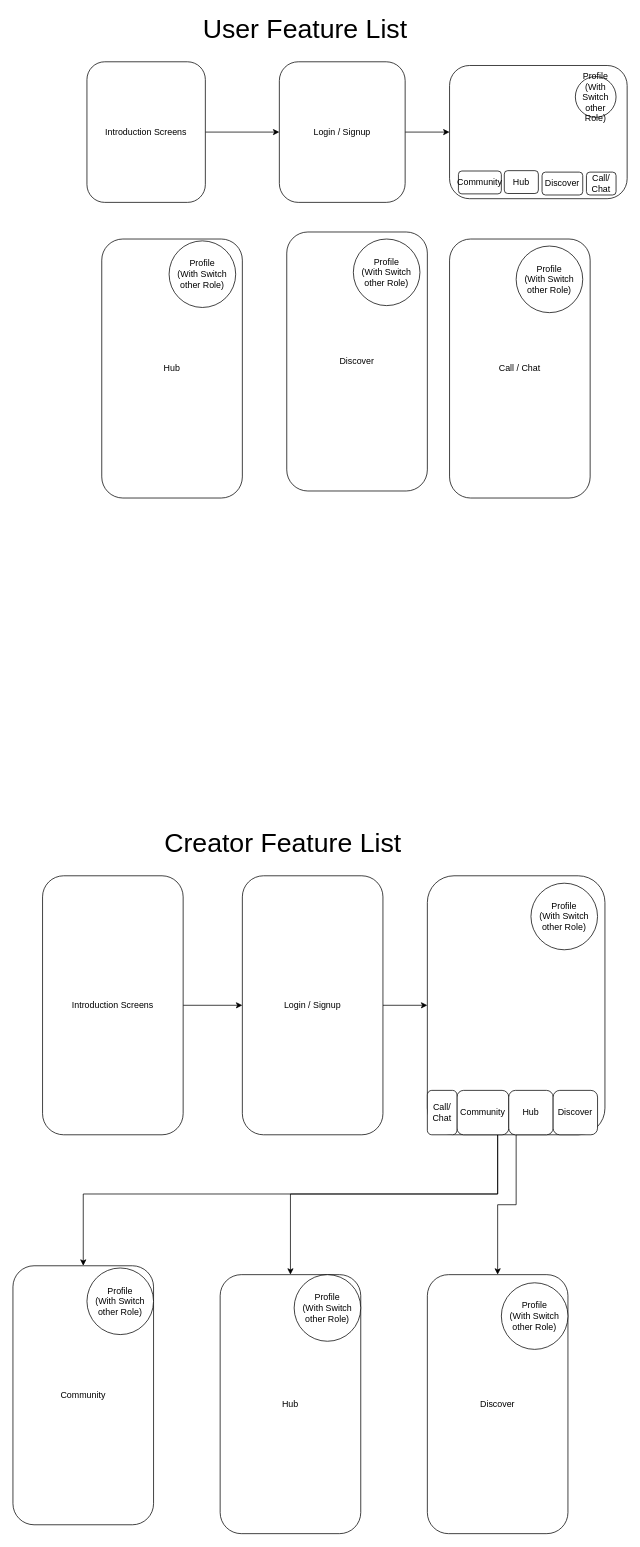
This 640x1547 diagram has some shape labels left out. Each missing label, with the box of its shape:
Communuty: (449, 65, 627, 199)
Home (Dashboard): (427, 875, 605, 1135)
